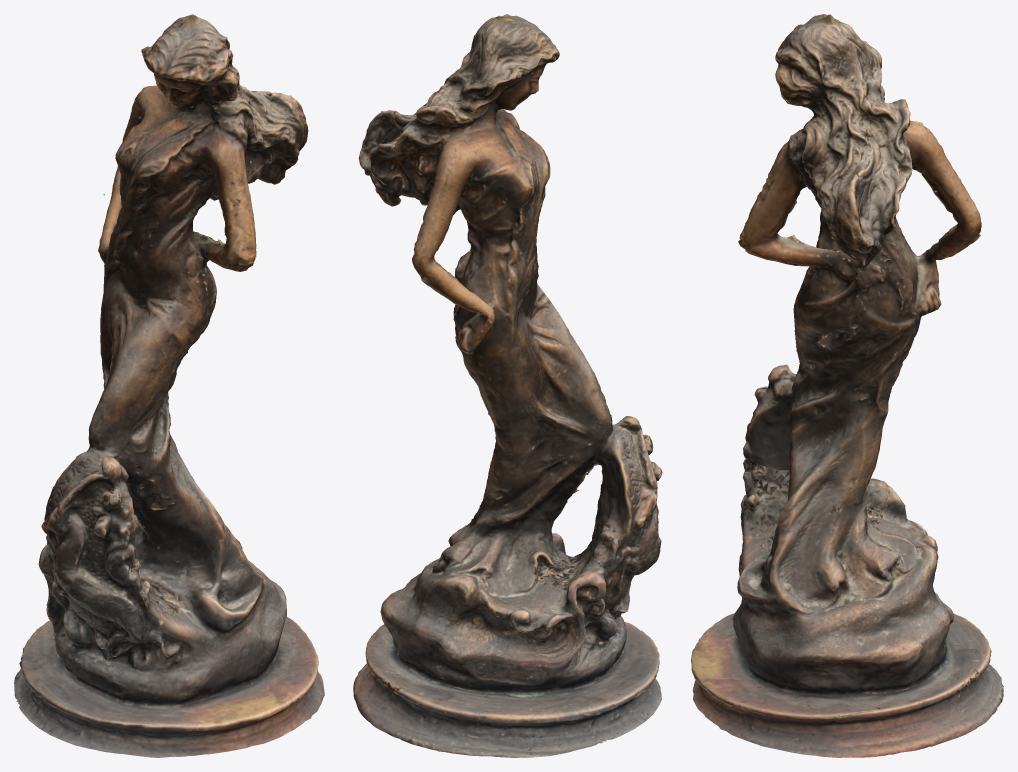
File: female_statue.glb
3 views of the same model, side by side, from view 1: azimuth 30°, elevation 25°; view 2: azimuth 150°, elevation 25°; view 3: azimuth 270°, elevation 25° (orthographic).
Visible parts, largest first — view 1: Object_3; view 2: Object_3; view 3: Object_3.
Boxes of the visible parts, <box> form: Object_3: <box>14,14,324,757</box>; Object_3: <box>353,14,662,757</box>; Object_3: <box>691,14,1003,757</box>.
Bounding box in the file's own units: 0.1522 × 0.3546 × 0.1479.
1 material, 1 textured.
